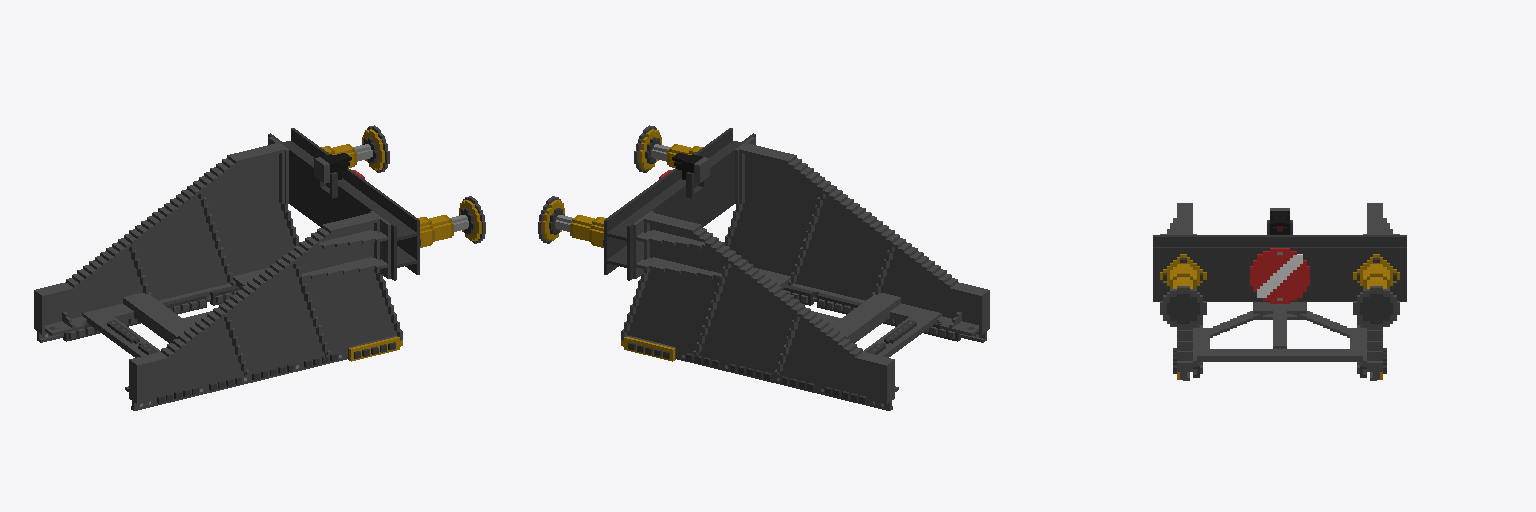
3 renders of one model, left to right at view 1: azimuth 30°, elevation 25°; view 2: azimuth 150°, elevation 25°; view 3: azimuth 270°, elevation 25°, orthographic.
Visible parts, largest first — view 1: FRAME_ObjObject; view 2: FRAME_ObjObject; view 3: FRAME_ObjObject.
Boxes of the visible parts, box(x1,y1,x2,y2) form: FRAME_ObjObject: box(34, 125, 485, 410); FRAME_ObjObject: box(538, 125, 989, 410); FRAME_ObjObject: box(1153, 203, 1406, 380).
Size of the model in its own units: 3.69 by 1.62 by 2.38.
2 materials, 1 textured.